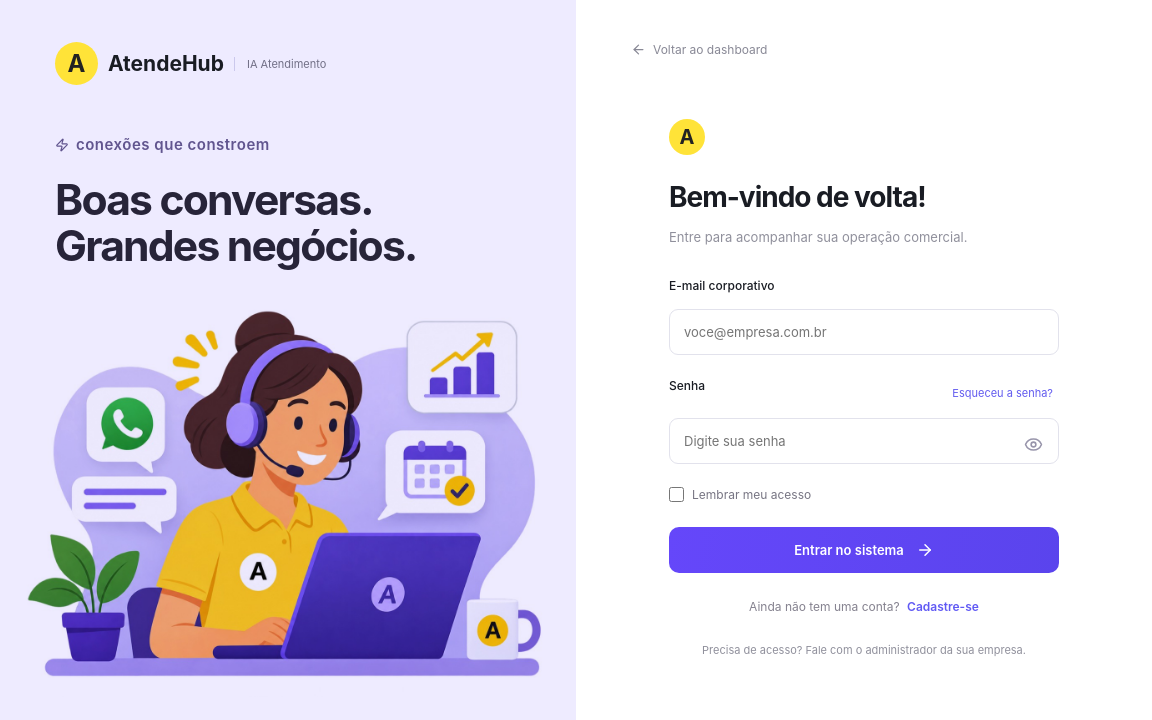
it: formulários reais › login inválido exibe erro e não entra no dashboard
Type "pedro@example.com" into the field labelled "E-mail corporativo". click: (864,332)
box: [669,309,1059,355]
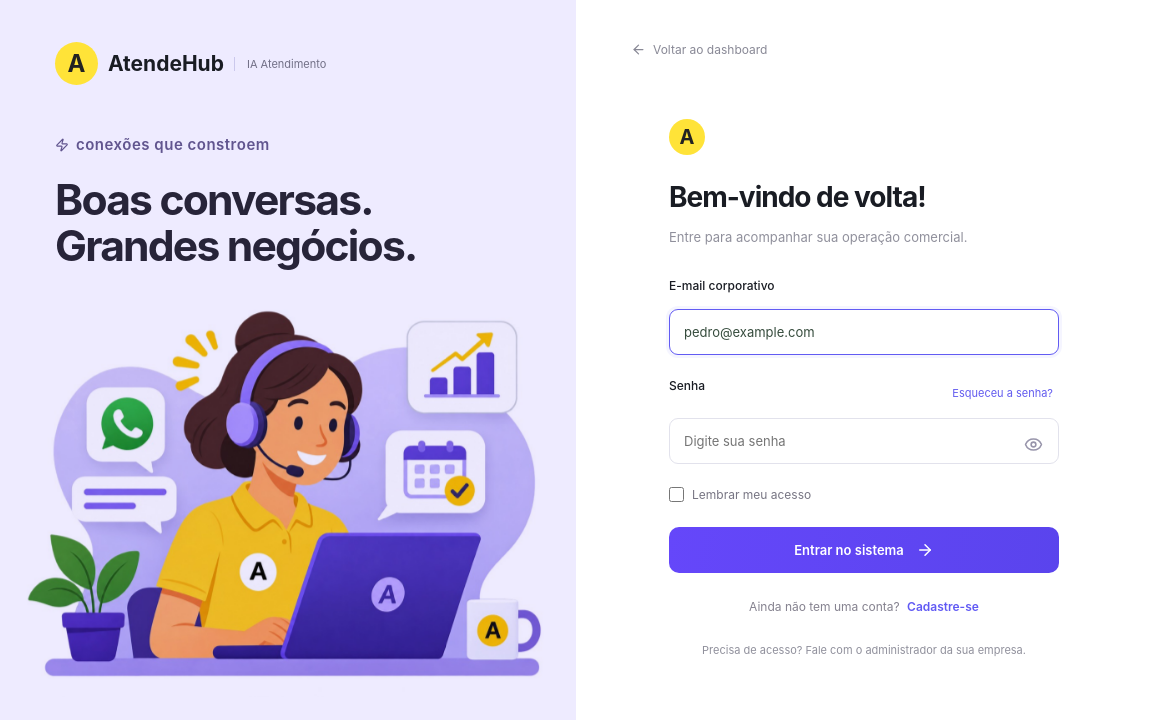
Type "Senha-teste-123" into the password field labelled "Senha". click: (864,441)
box: [669,418,1059,464]
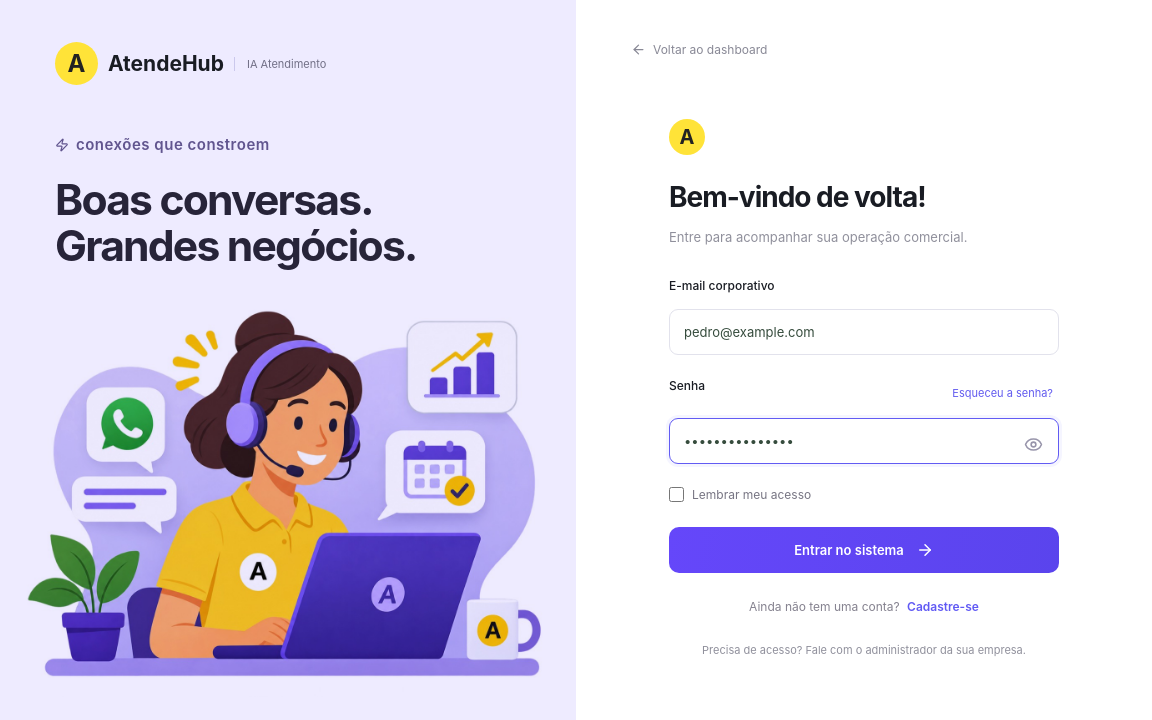
Click the button "Entrar no sistema". click: (864,550)
box: [669,527,1059,573]
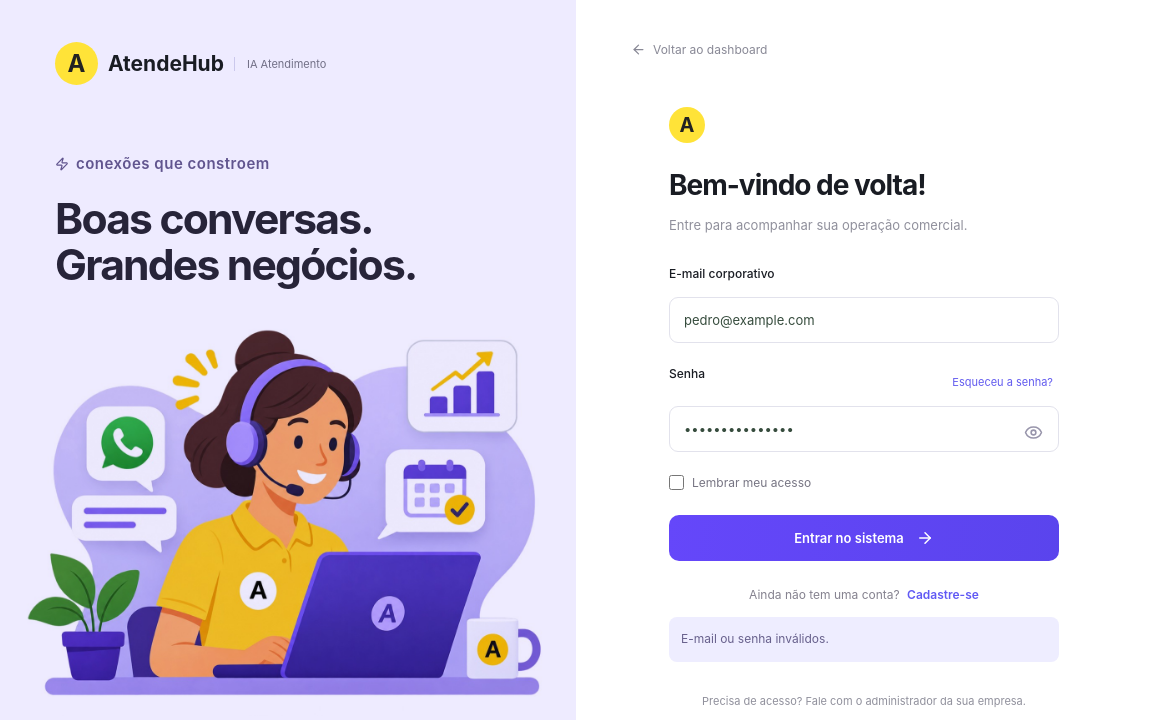
Expected: the message reads "E-mail ou senha inválidos.", [681,632,829,646]
